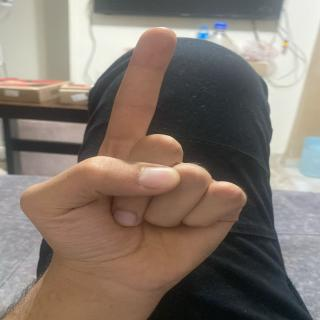BAA: (22, 22, 246, 267)
